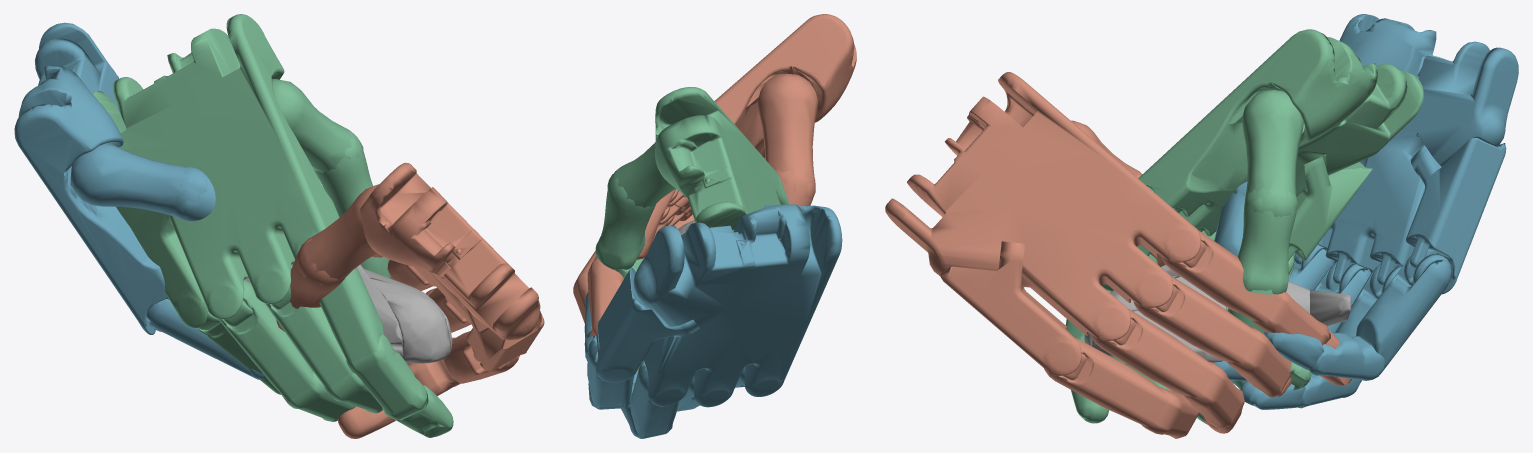
File: novel_mujoco-Sootheze_Toasty_Orca_grasp.glb
3 views of the same model, side by side, from view 1: azimuth 30°, elevation 25°; view 2: azimuth 150°, elevation 25°; view 3: azimuth 270°, elevation 25° (orthographic). The views are drawn at different scales.
Size of the model in its own units: 0.1676 by 0.169 by 0.2631.
